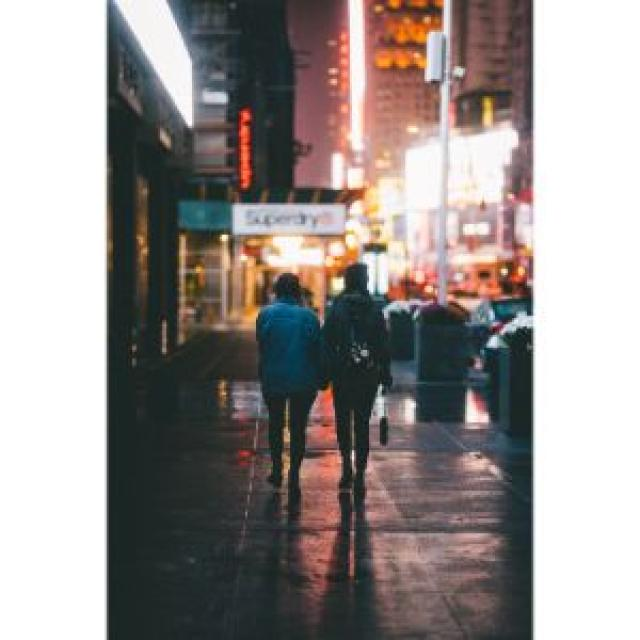nonfall: (238, 269, 321, 496), (327, 252, 389, 487)
